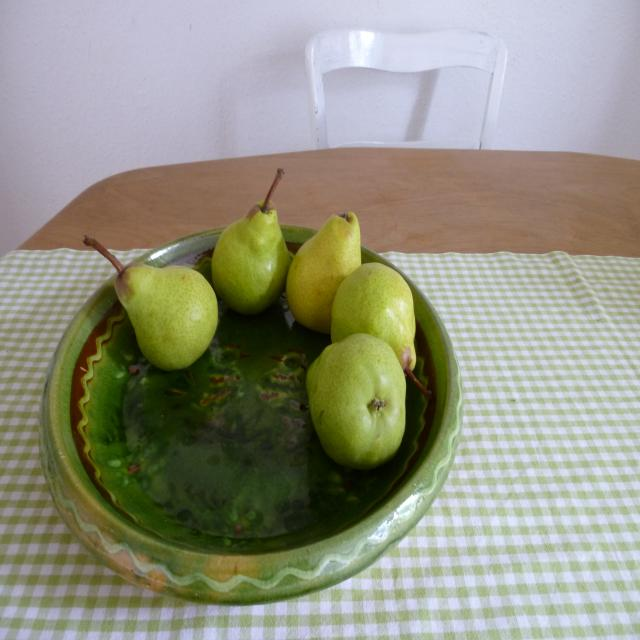pear: (304, 334, 406, 470), (114, 258, 218, 372), (327, 263, 417, 370), (285, 212, 360, 338), (214, 199, 292, 315)
